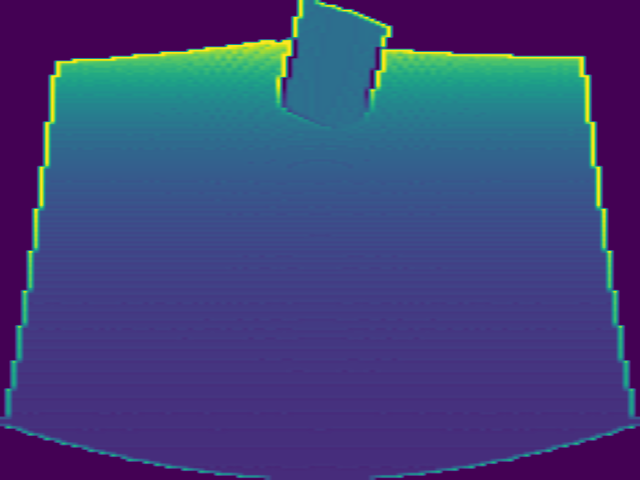cylinder: (276, 1, 392, 130)
